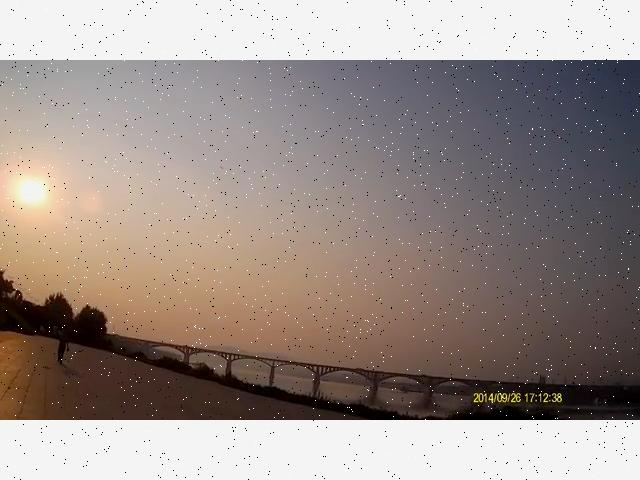Anti-Drone: (218, 160, 232, 174)
